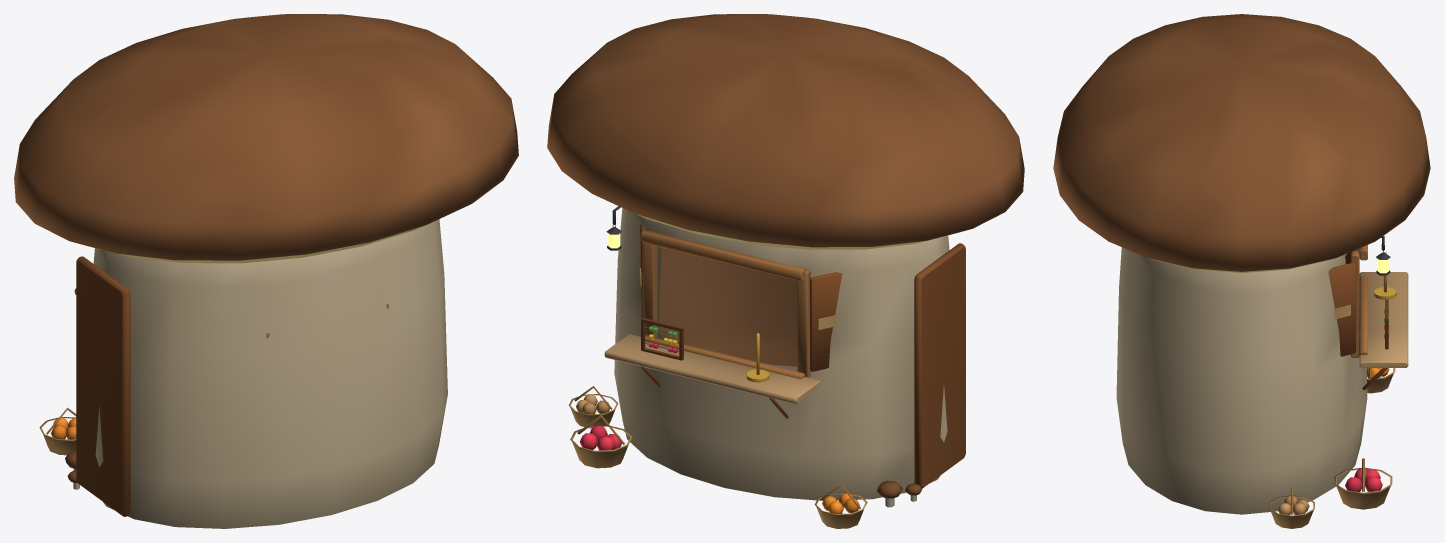
Rendered from grib_kiosk.glb.
3 views of the same model, side by side, from view 1: azimuth 30°, elevation 25°; view 2: azimuth 150°, elevation 25°; view 3: azimuth 270°, elevation 25° (orthographic). The views are drawn at different scales.
Parts seen in each view (by area): view 1: grib_kiosk; view 2: grib_kiosk; view 3: grib_kiosk.
Part boxes in pixels (<box>): grib_kiosk: <box>14,14,518,528</box>; grib_kiosk: <box>547,14,1024,528</box>; grib_kiosk: <box>1053,14,1430,528</box>.
Size of the model in its own units: 3.43 by 3.11 by 2.64.
